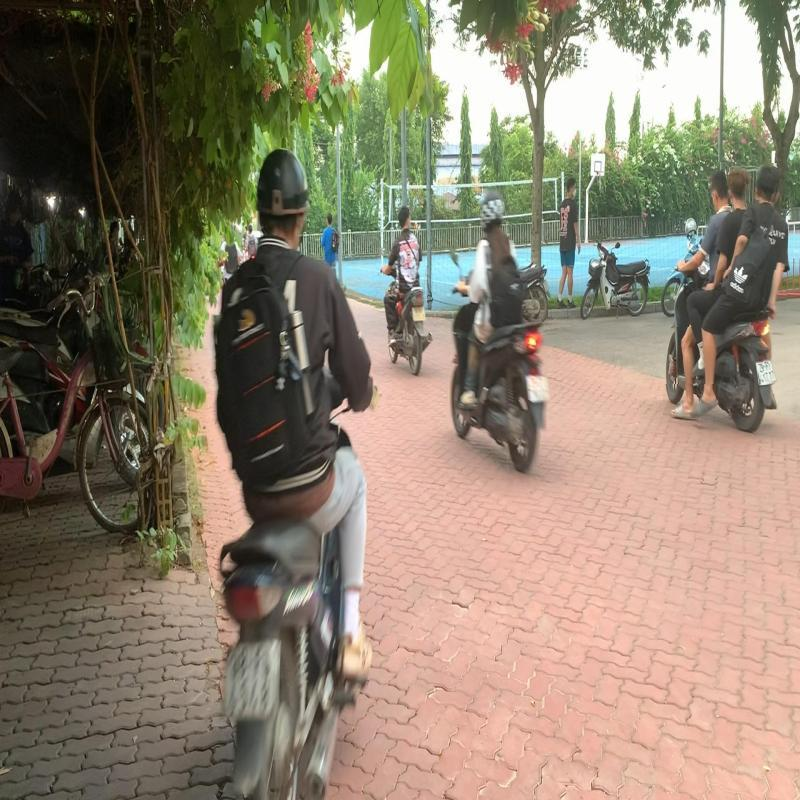licenseplate: (757, 358, 777, 384)
motorcyclist: (664, 162, 788, 434)
nohelmet: (754, 164, 778, 202), (726, 165, 748, 204), (707, 169, 728, 206)
